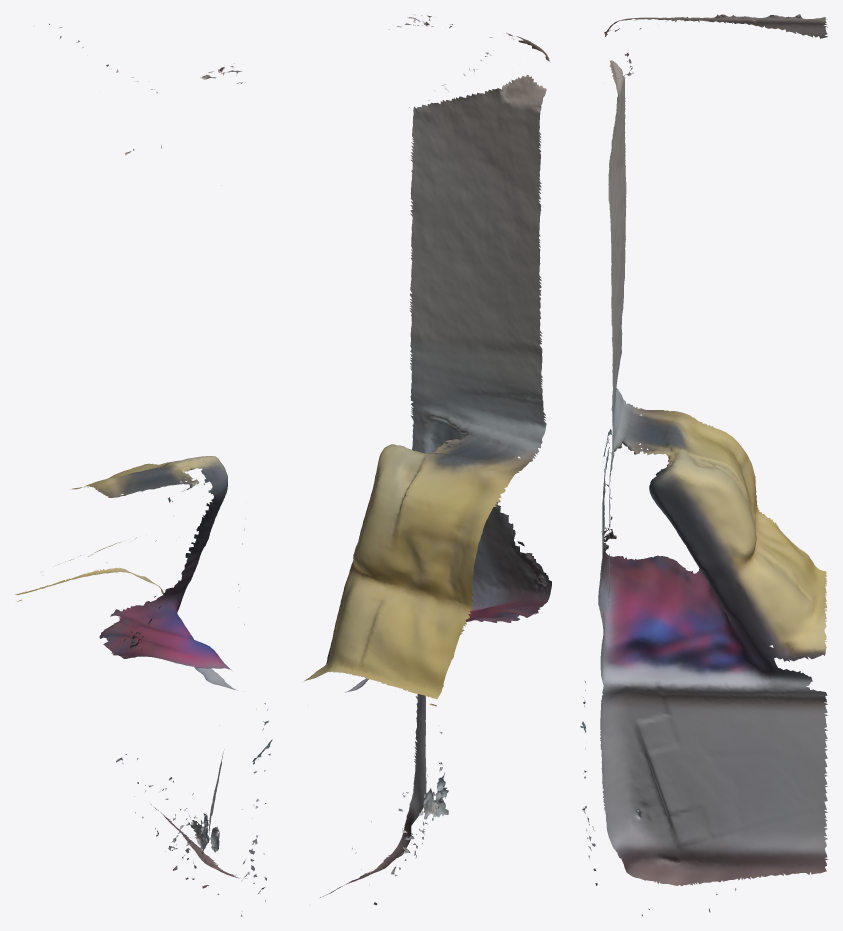
Rendered from apartment-full-7-a6408a0c785d.glb.
The picture shows the model from 3 angles, left to right: view 1: azimuth 30°, elevation 25°; view 2: azimuth 150°, elevation 25°; view 3: azimuth 270°, elevation 25°; orthographic projection. The views are drawn at different scales.
Bounding box in the file's own units: 0.42 × 2.51 × 0.667.
